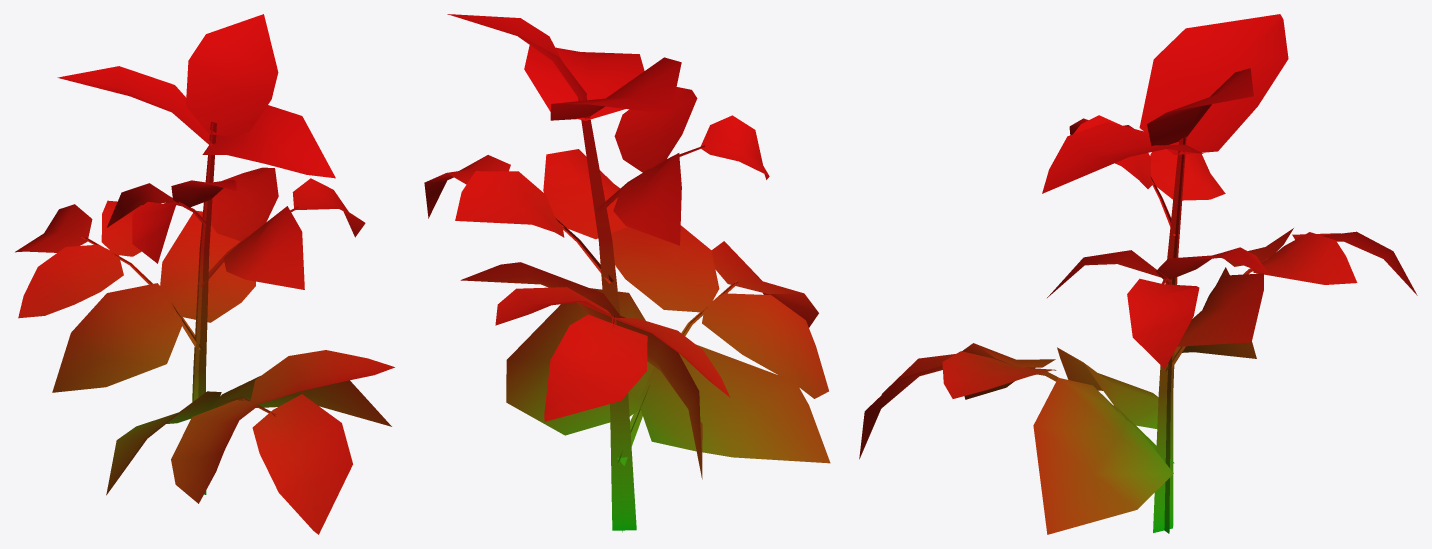
File: Raspberry_LOD2_Var13_wf0oefeja.fbx
3 views of the same model, side by side, from view 1: azimuth 30°, elevation 25°; view 2: azimuth 150°, elevation 25°; view 3: azimuth 270°, elevation 25° (orthographic). The views are drawn at different scales.
Visible parts, largest first — view 1: _iyak_Var13_LOD2; view 2: _iyak_Var13_LOD2; view 3: _iyak_Var13_LOD2.
Boxes of the visible parts, x1,y1,x2,y2 form: _iyak_Var13_LOD2: (15, 14, 394, 534); _iyak_Var13_LOD2: (424, 14, 830, 532); _iyak_Var13_LOD2: (859, 14, 1417, 534).
Bounding box in the file's own units: 11.64 × 16.18 × 16.57.
